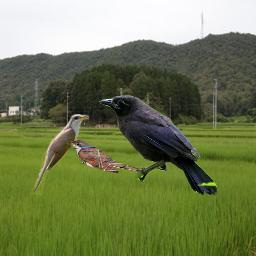Crow: (99, 95, 218, 196)
Cuckoo: (31, 114, 89, 195), (66, 138, 146, 177)
